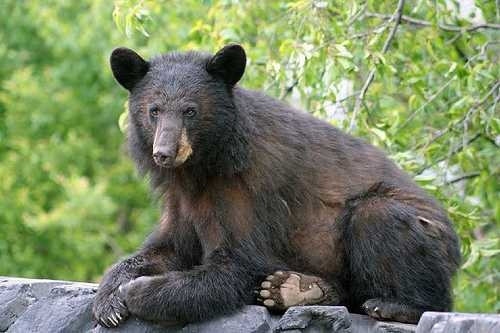bear: (116, 44, 244, 172)
